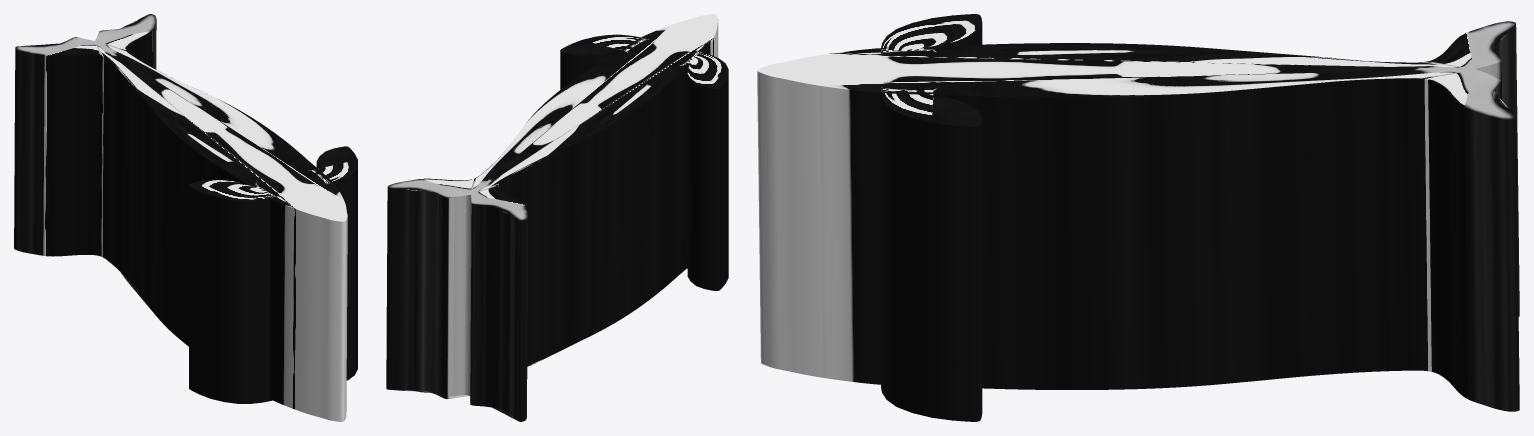
The model's file is OrcaHeight.fbx.
The picture shows the model from 3 angles, left to right: view 1: azimuth 30°, elevation 25°; view 2: azimuth 150°, elevation 25°; view 3: azimuth 270°, elevation 25°; orthographic projection. The views are drawn at different scales.
Visible parts, largest first — view 1: Orca; view 2: Orca; view 3: Orca.
Part boxes in pixels (<box>): Orca: <box>14,14,357,421</box>; Orca: <box>386,14,728,421</box>; Orca: <box>757,14,1519,421</box>.
Size of the model in its own units: 3.32 by 4.05 by 9.46.
Materials: 1 (1 with a texture image).
